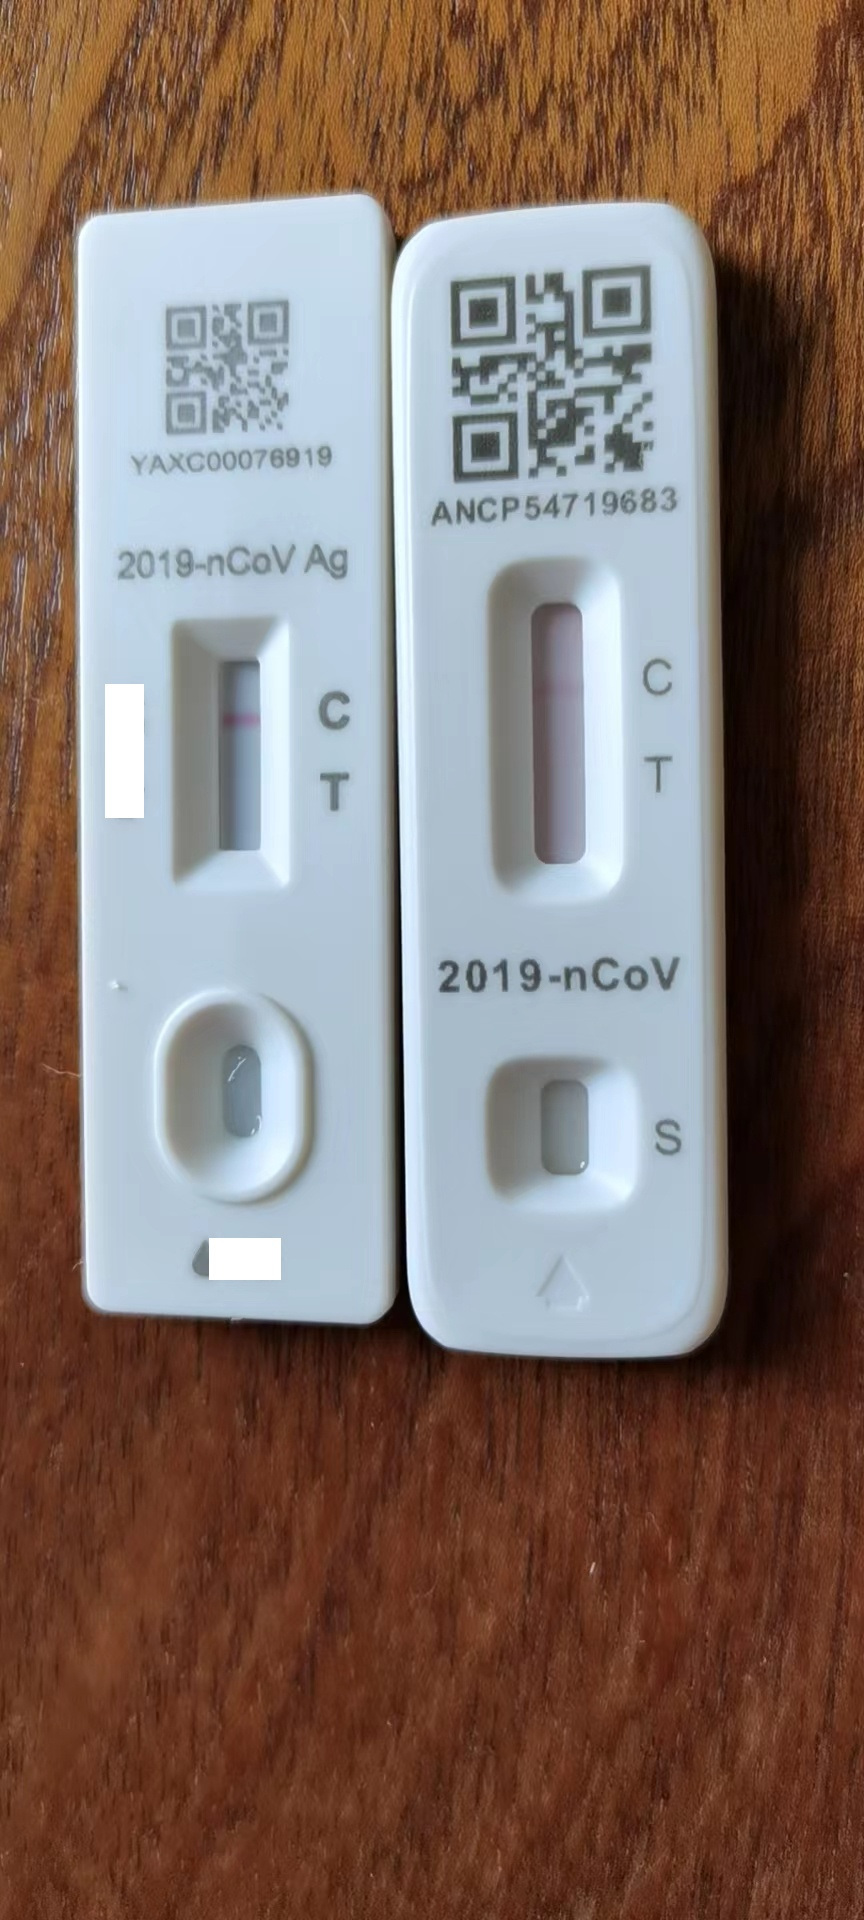negative: (486, 560, 616, 910), (171, 615, 281, 898)
